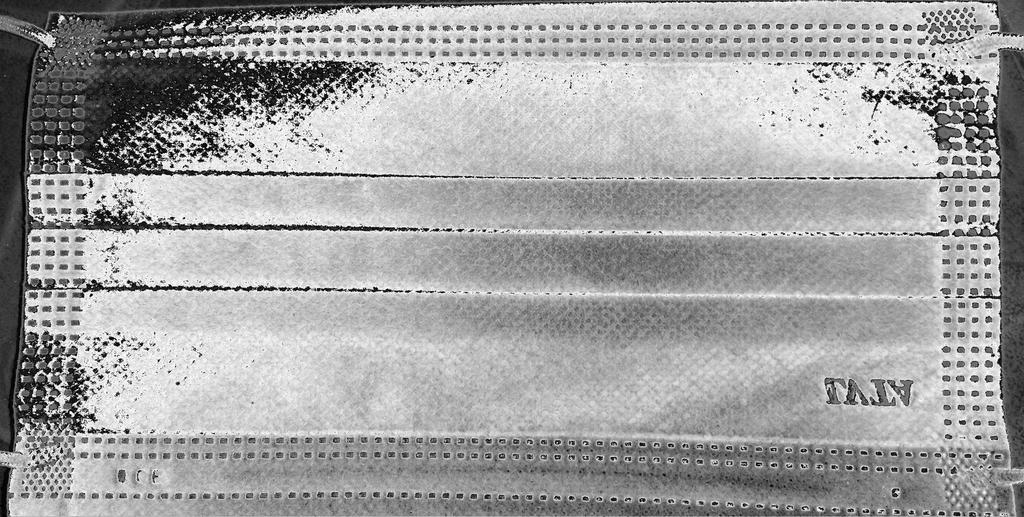High GSM: (70, 56, 950, 454)
